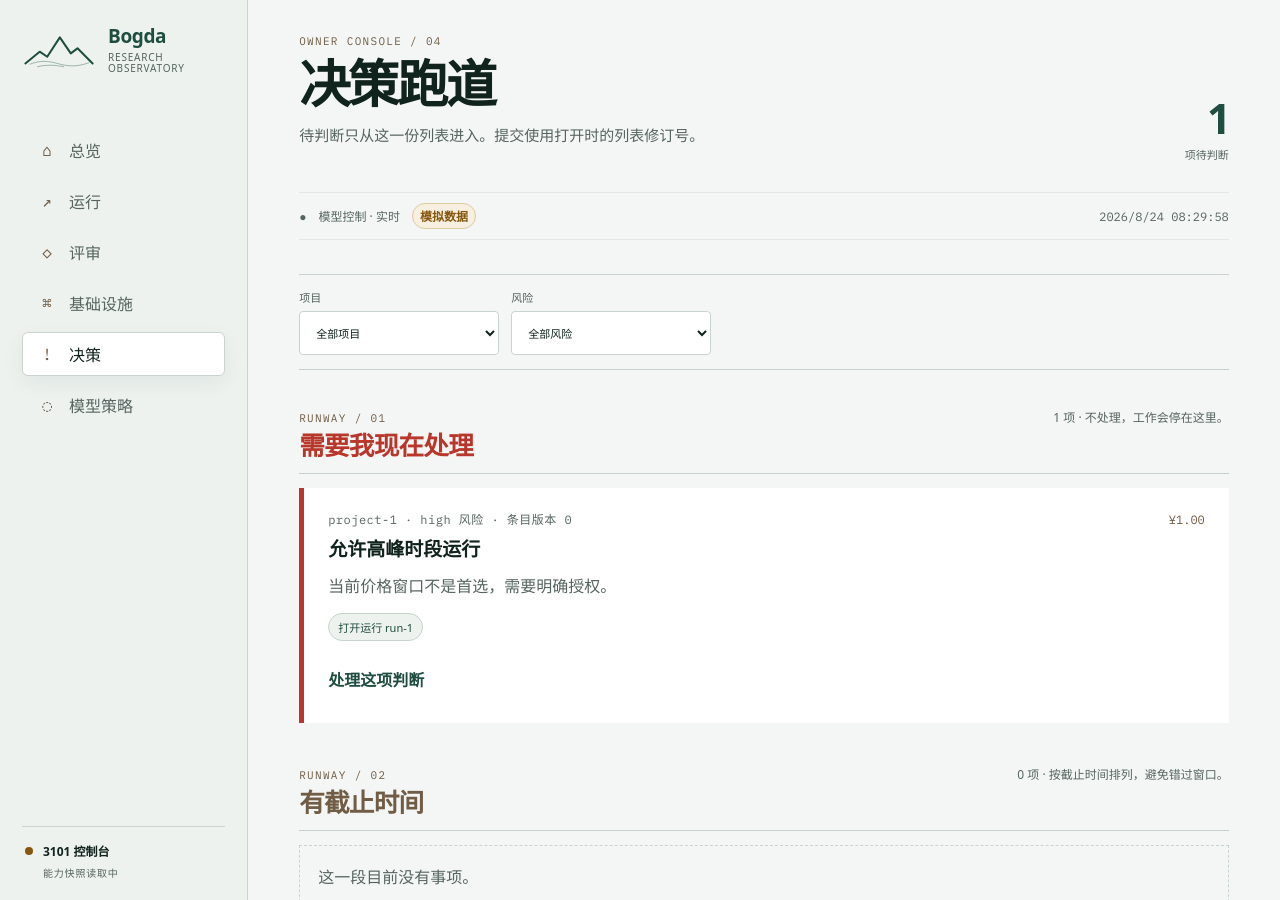
Test: owner decision runway › fails closed while capabilities are pending, unavailable, or explicitly disabled
This screenshot has width=1280, height=900.
Click the button with aria-label "查看：允许高峰时段运行" at [376, 680], box [328,658,424,702]
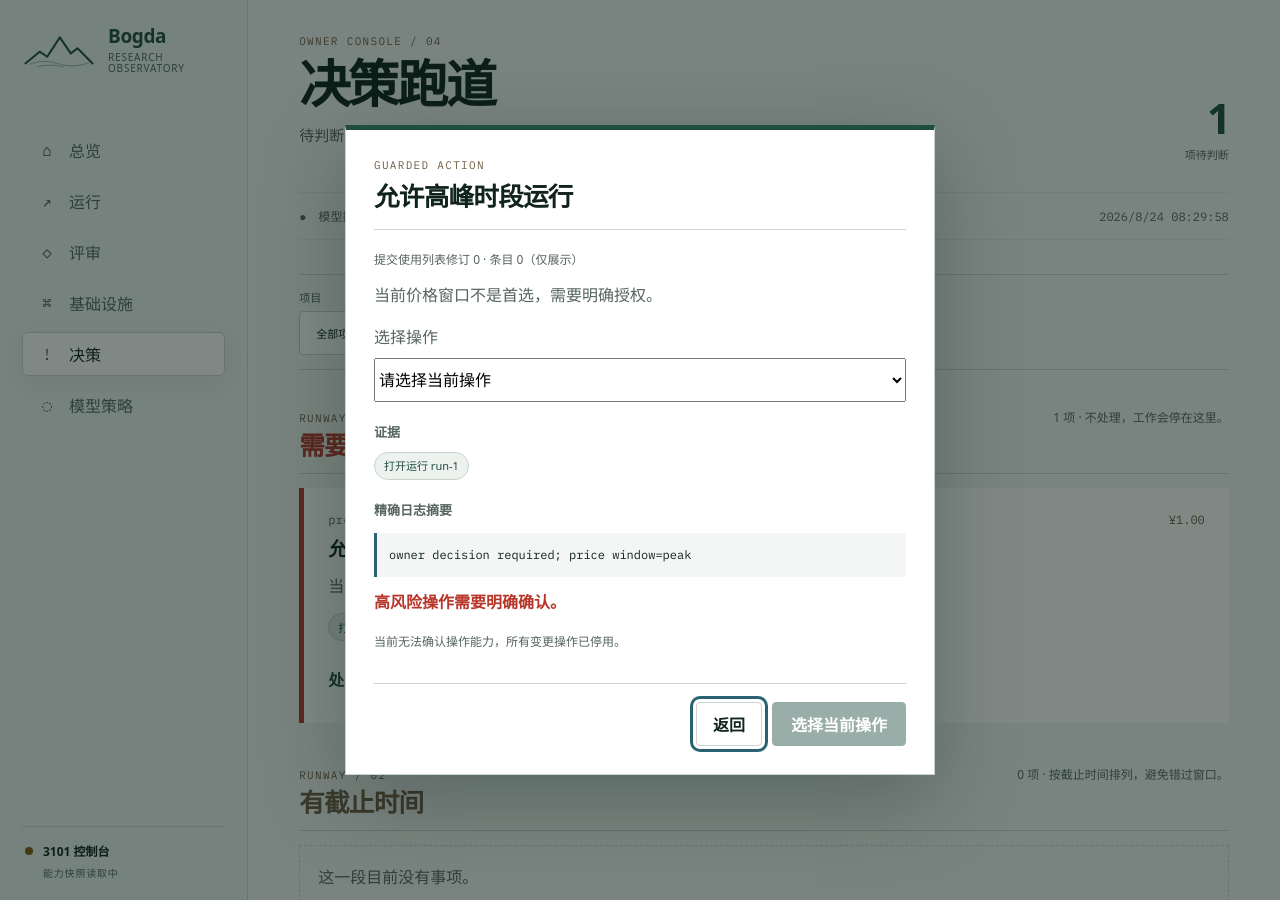
Expected: the text "当前无法确认操作能力，所有变更操作已停用。" is shown, [374,633,626,650]
Expected: the button "选择当前操作" is disabled, [772,702,906,746]
